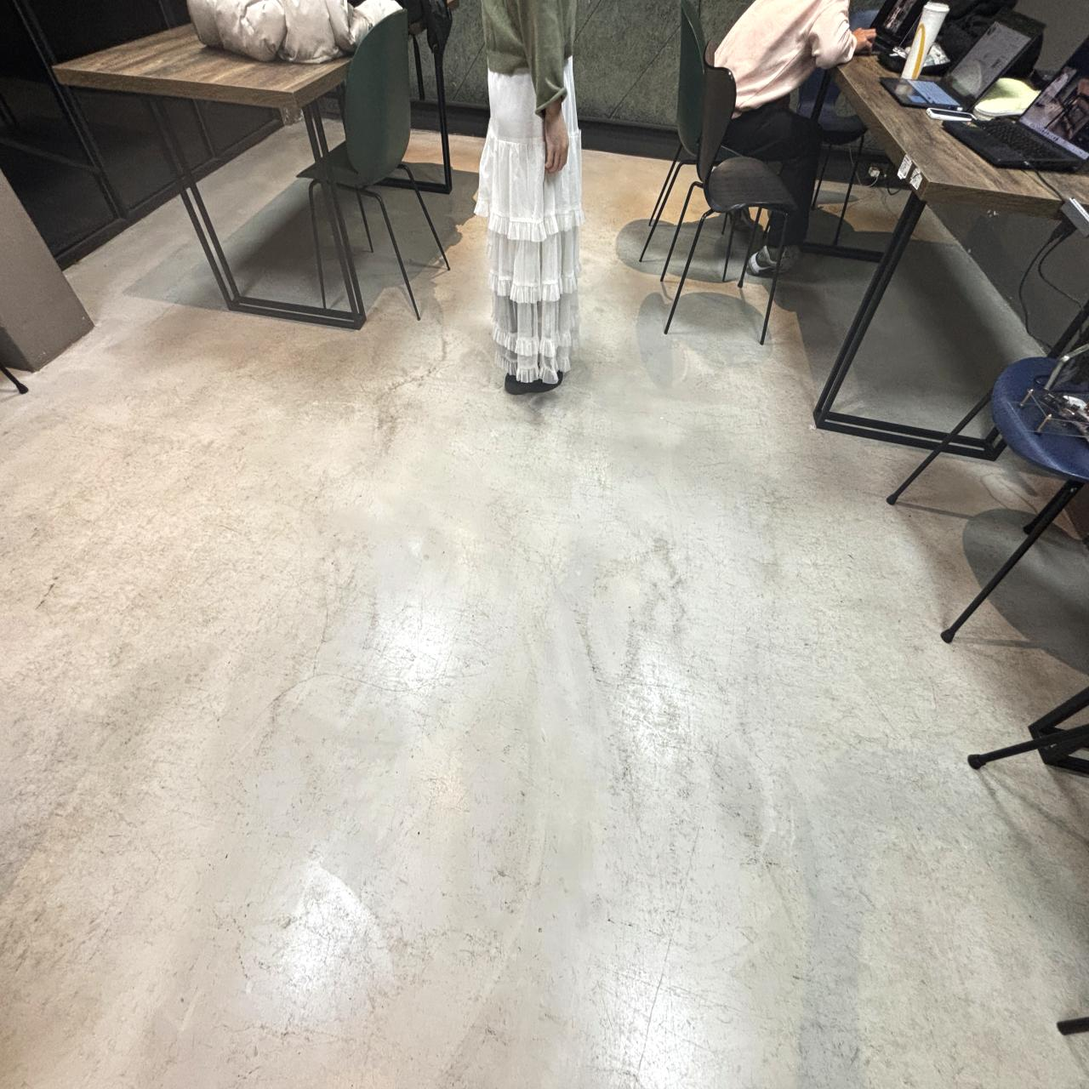person: (711, 4, 879, 283), (476, 0, 583, 394)
